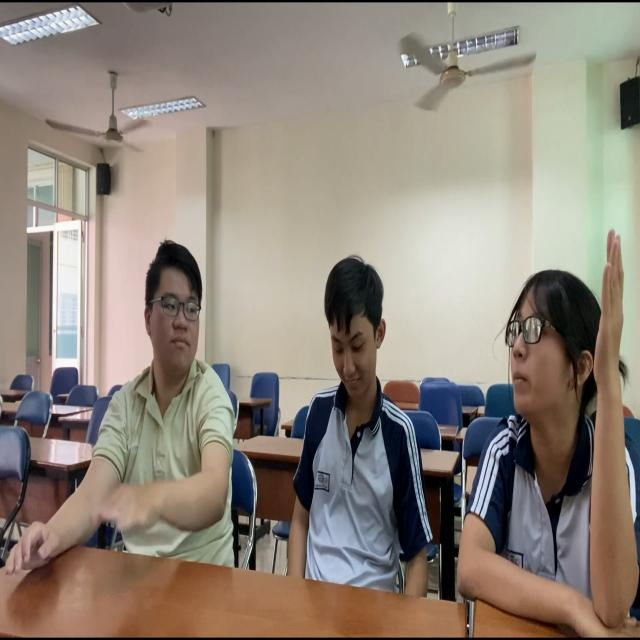raise_hand: (443, 180, 640, 637)
